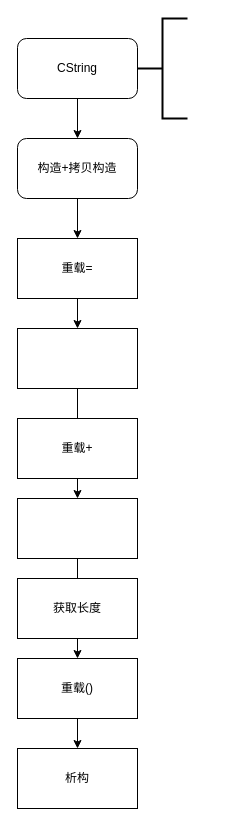
Some shapes in this 240 by 826 pixel diagram are drawn without their labels. The box of each missing label's shape, as (x1, y1, x2, y2) in pixels:
str length: (136, 17, 188, 119)
重载<<: (16, 328, 138, 388)
重载[]: (16, 498, 138, 558)
